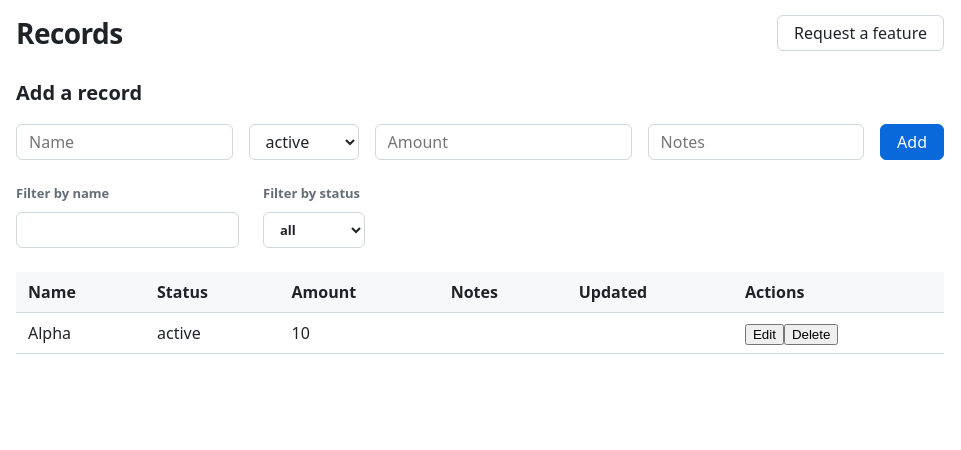
Scenario: DAN-10 tester · create from the table view › a 400 lands on the offending field and adds no row — two different fields
Expected: the text "Alpha" is shown, x1=16 y1=312 x2=145 y2=353
Type "Bad" into the field named "New name".
click(124, 142); type("Bad")  # box x1=16 y1=124 x2=232 y2=160
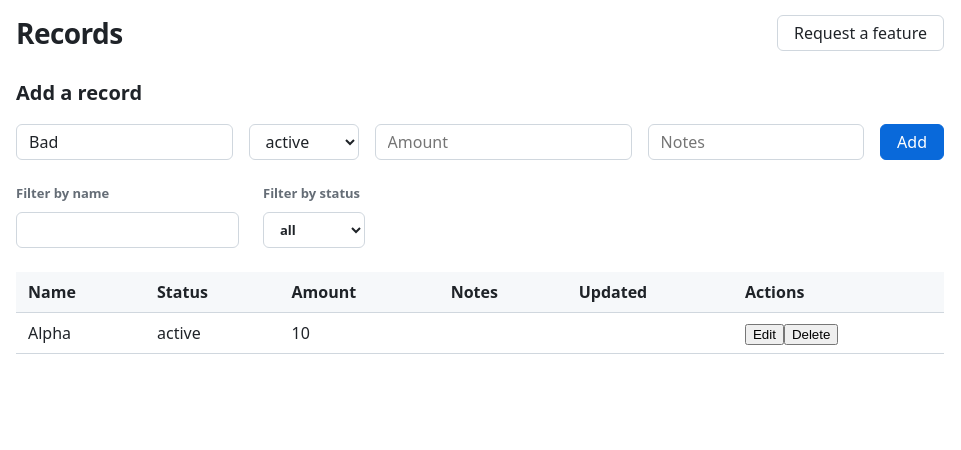
Type "-1" into the number field named "New amount".
click(503, 142); type("-1")  # box x1=374 y1=124 x2=632 y2=160
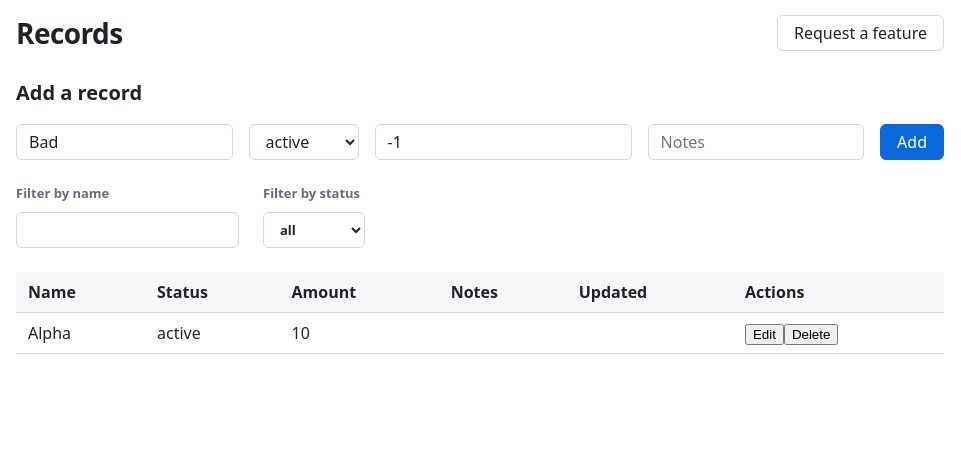
Click the button "Add".
click(912, 142)  # box x1=880 y1=124 x2=944 y2=160
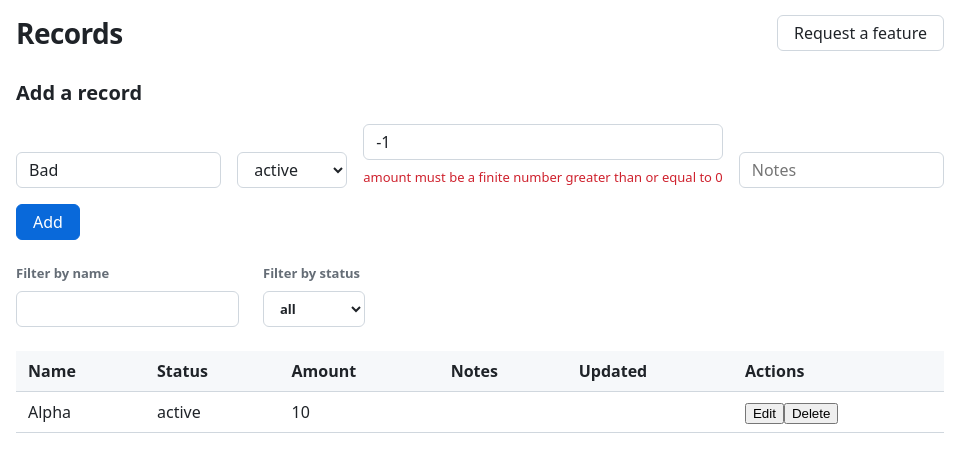
Expected: the message "amount must be a finite number greater than or equal to 0" is shown, x1=363 y1=168 x2=723 y2=188
Clear the field named "New name" at (119, 170), box x1=16 y1=152 x2=221 y2=188
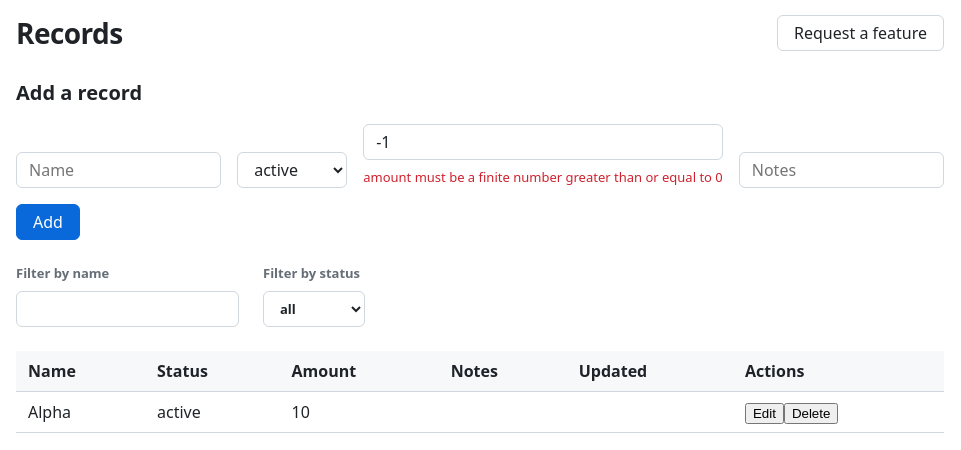
Replace the text in the number field named "New amount" with "10" at (543, 142), box x1=363 y1=124 x2=723 y2=160
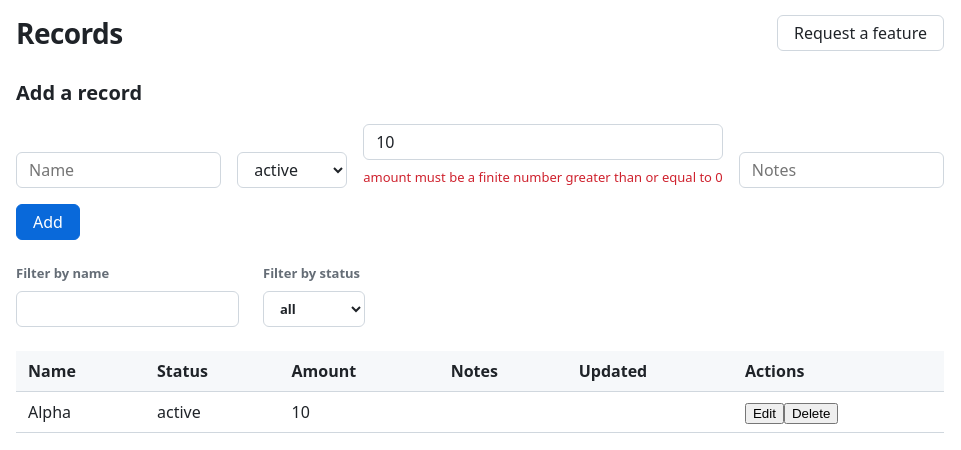
Click the button "Add".
click(48, 222)  # box x1=16 y1=204 x2=80 y2=240
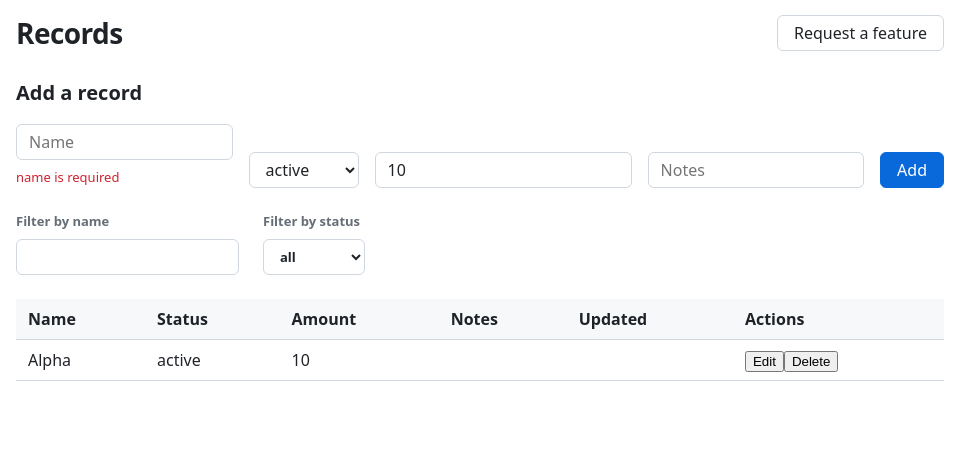
Expected: the message "name is required" is shown, x1=16 y1=168 x2=119 y2=186
